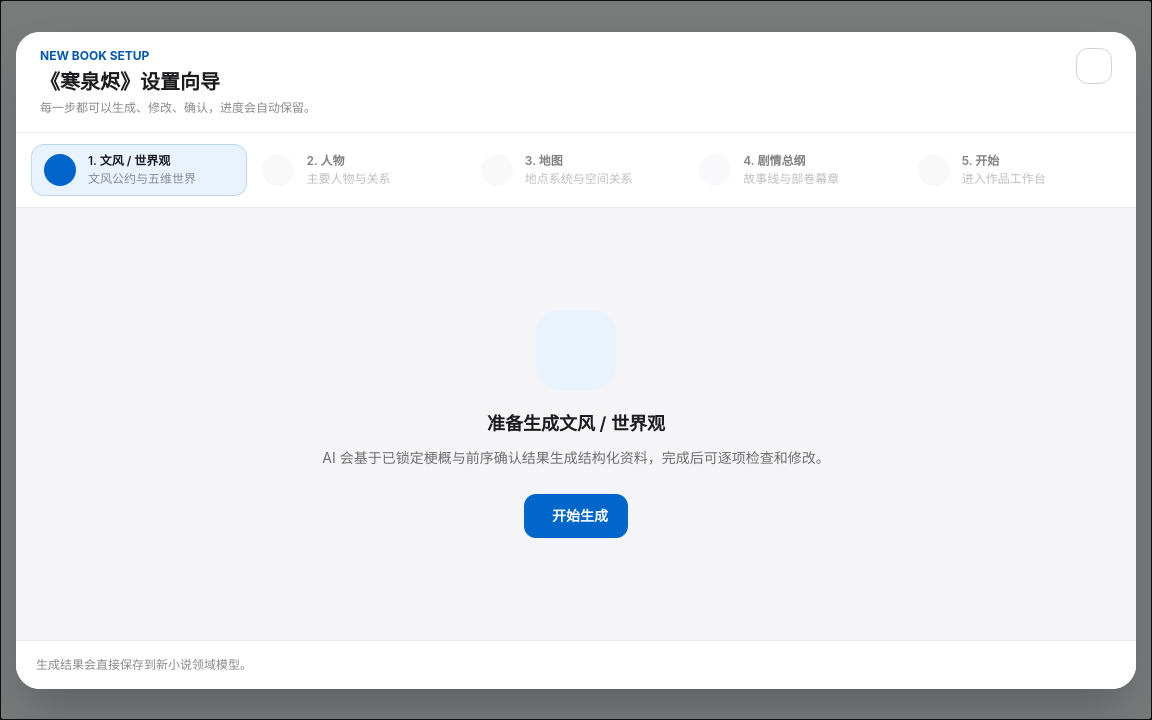
Test: NovelSetupWizard › 生成完成后停留在当前步骤展示结果，不自动跳到下一步
The width and height of the screenshot is (1152, 720).
Expected: the heading "准备生成文风 / 世界观" is shown, [487,412,665,434]
Step 1. Click the button "开始生成" → (576, 516), box [524,494,628,538]
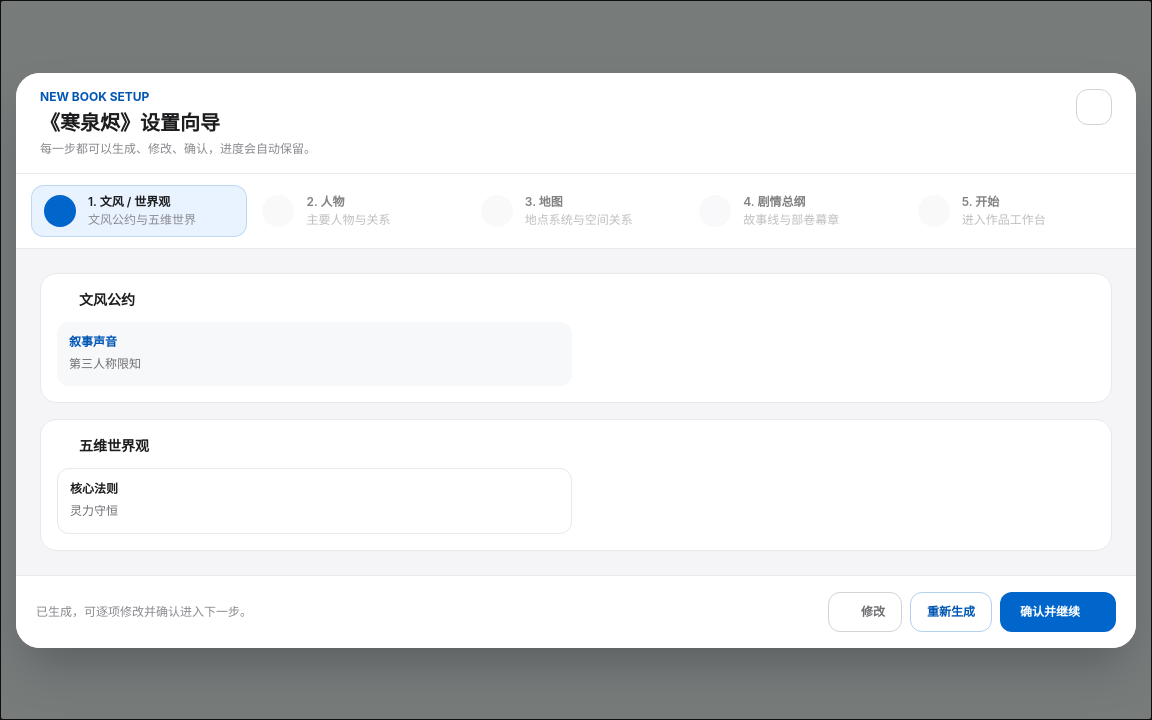
Expected: the text "灵力守恒" is shown, [70,502,118,518]
